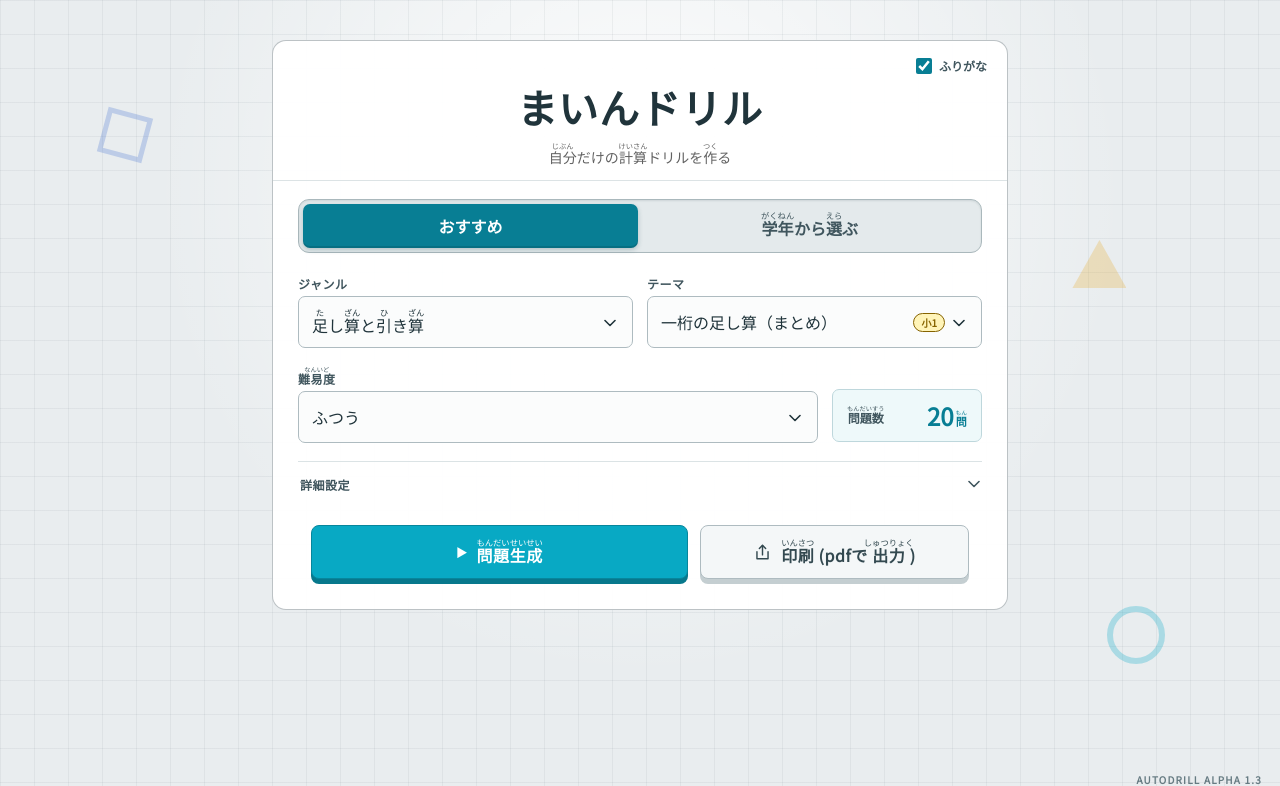
it: print flow integration paths › settings -> print creates a worksheet and opens the in-app preview without native printing
Click the button with aria-label "印刷 (pdfで出力)" at (834, 552), box x1=700 y1=525 x2=969 y2=579
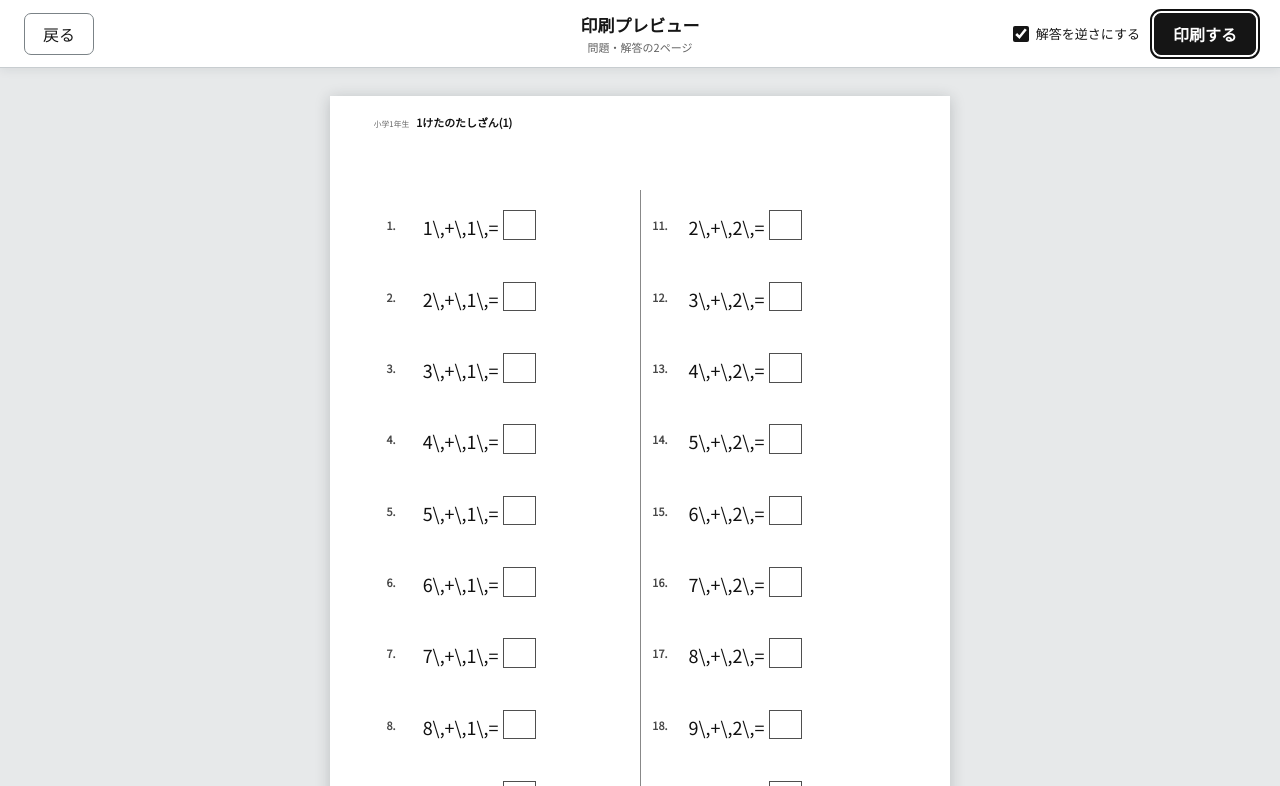
Expected: the heading "まいんドリル" is shown, x1=517 y1=77 x2=763 y2=137
Expected: the text "1\\,+\\,1\\,=" is shown, x1=423 y1=219 x2=498 y2=237
Click the button "戻る" at (59, 34), box x1=24 y1=12 x2=94 y2=54
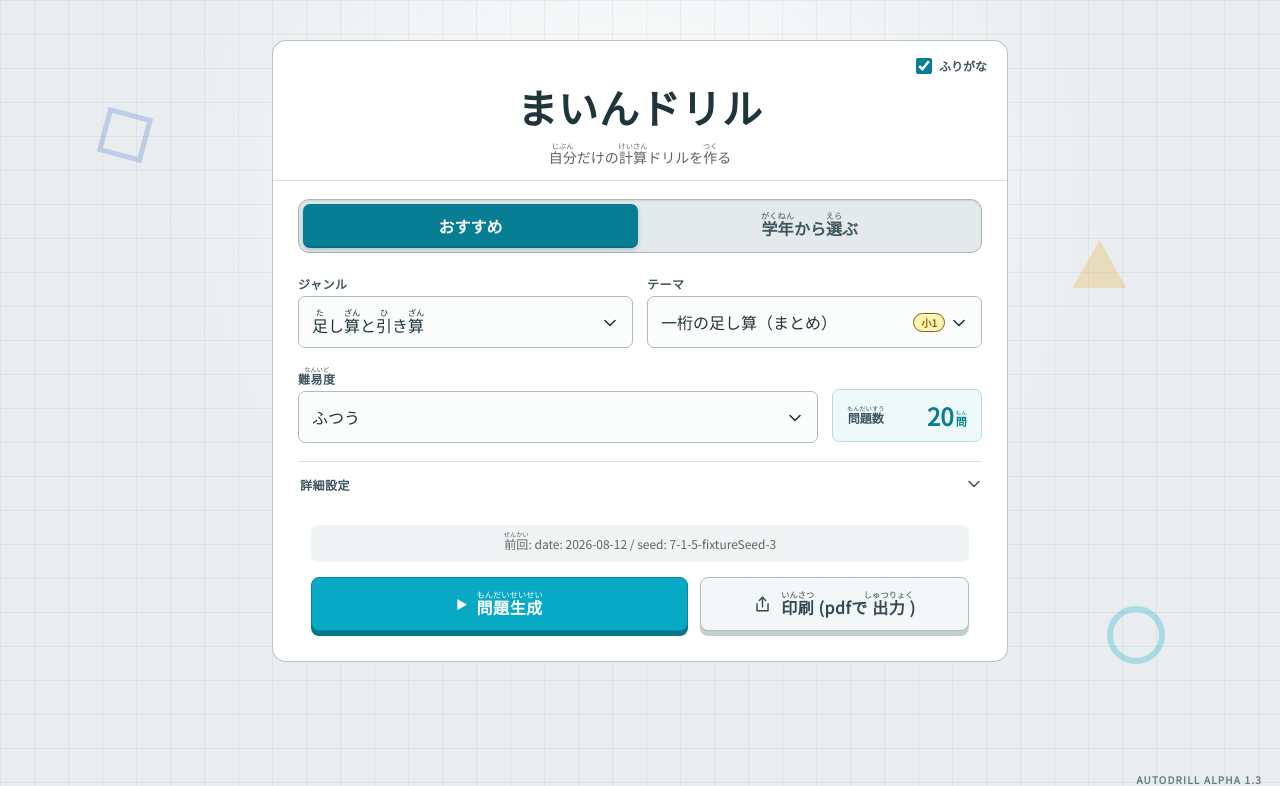
Expected: the heading "まいんドリル" is shown, x1=517 y1=77 x2=763 y2=137
Expected: the heading "印刷プレビュー" is gone
